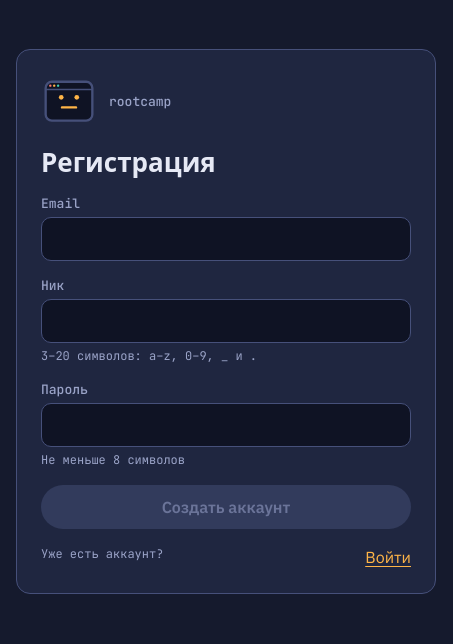
Test case: Register › shows the server error for a taken nick
Type "neo@example.com" into the field labelled "Email" at (226, 238), box top-left (41, 216), bottom-right (411, 260)
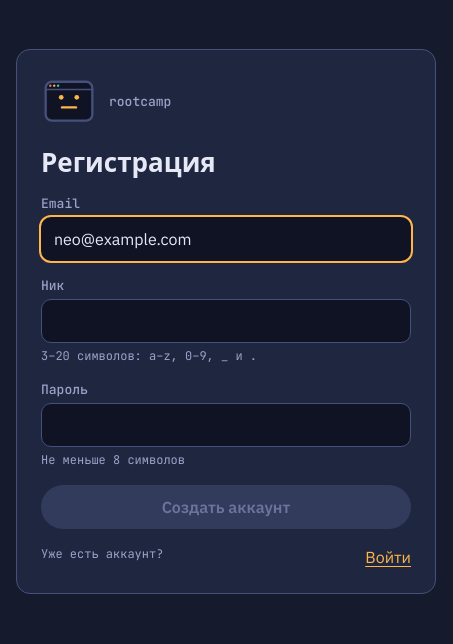
Type "neo" into the field labelled "Ник" at (226, 320), box top-left (41, 298), bottom-right (411, 342)
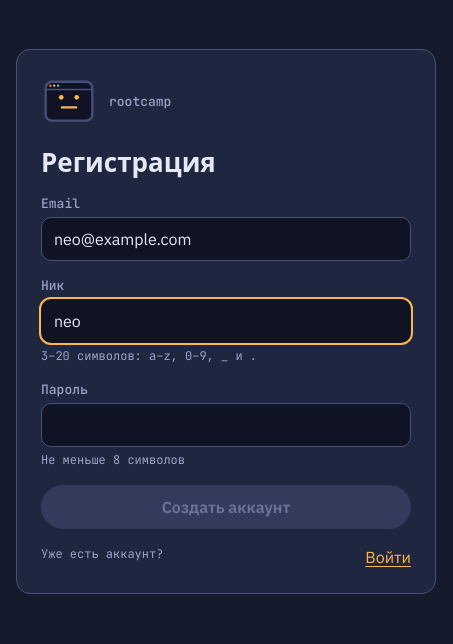
Type "correct-horse" into the password field labelled "Пароль" at (226, 424), box top-left (41, 402), bottom-right (411, 446)
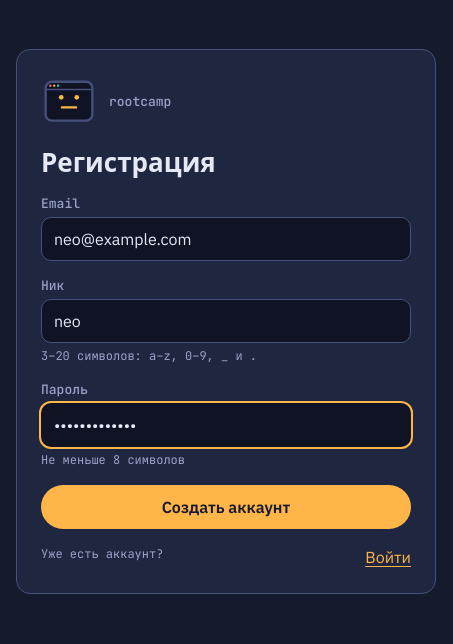
Click the button "Создать аккаунт" at (226, 506), box top-left (41, 484), bottom-right (411, 528)
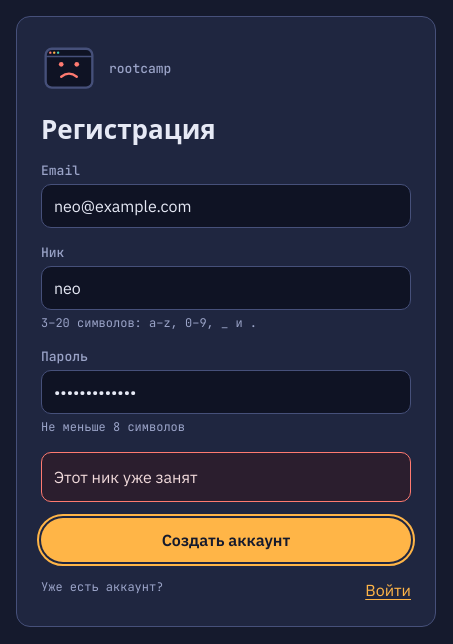
Expected: the message reads "Этот ник уже занят", top-left (54, 466), bottom-right (198, 486)
